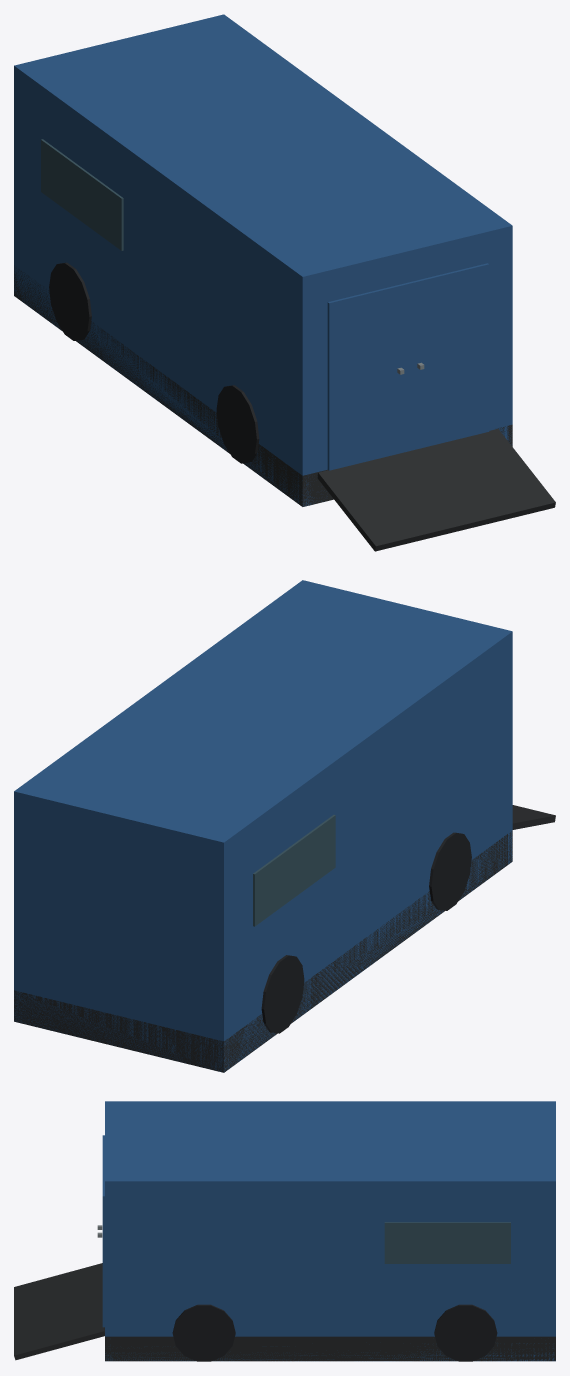
File: van_camper.glb
3 renders of one model, top to bottom at view 1: azimuth 30°, elevation 25°; view 2: azimuth 150°, elevation 25°; view 3: azimuth 270°, elevation 25°, orthographic. The views are drawn at different scales.
Visible parts, largest first — view 1: Shell, Door_L, Door_R, Dressing; view 2: Shell, Dressing; view 3: Shell, Dressing, Door_R.
Part boxes in pixels (<box>): Shell: <box>14,14,555,551</box>; Door_L: <box>327,282,409,470</box>; Door_R: <box>408,263,489,450</box>; Dressing: <box>41,139,259,463</box>; Shell: <box>14,580,555,1072</box>; Dressing: <box>253,815,471,1033</box>; Shell: <box>14,1101,555,1361</box>; Dressing: <box>172,1222,510,1361</box>; Door_R: <box>97,1166,104,1327</box>.
Size of the model in its own units: 2.15 by 2.26 by 6.01.
